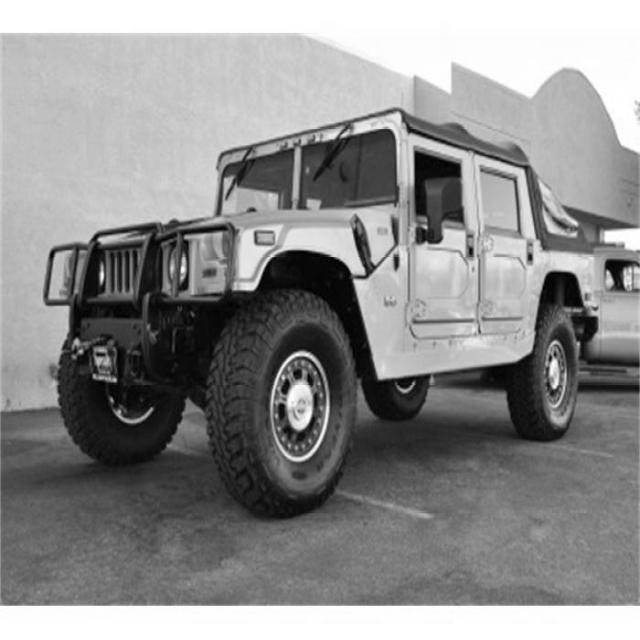car: (40, 100, 610, 496)
